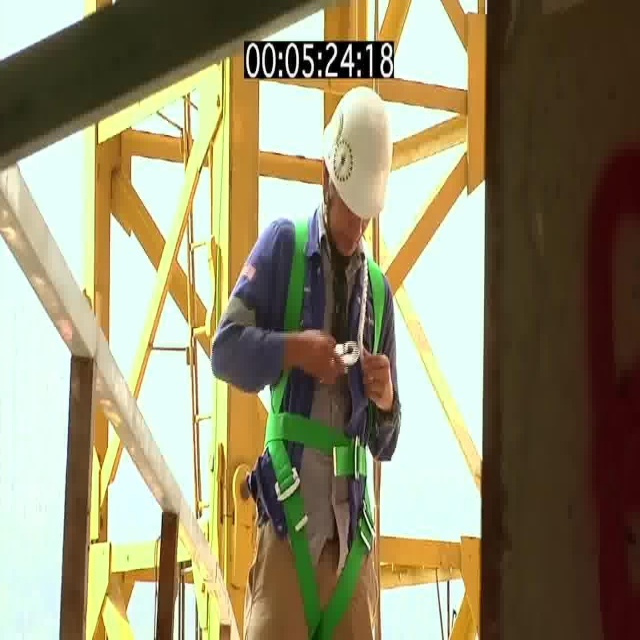Arnes_seguridad: (263, 221, 385, 631)
